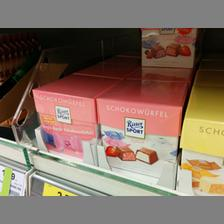Schokolade: (96, 79, 188, 173), (27, 71, 108, 163), (135, 29, 195, 67)
